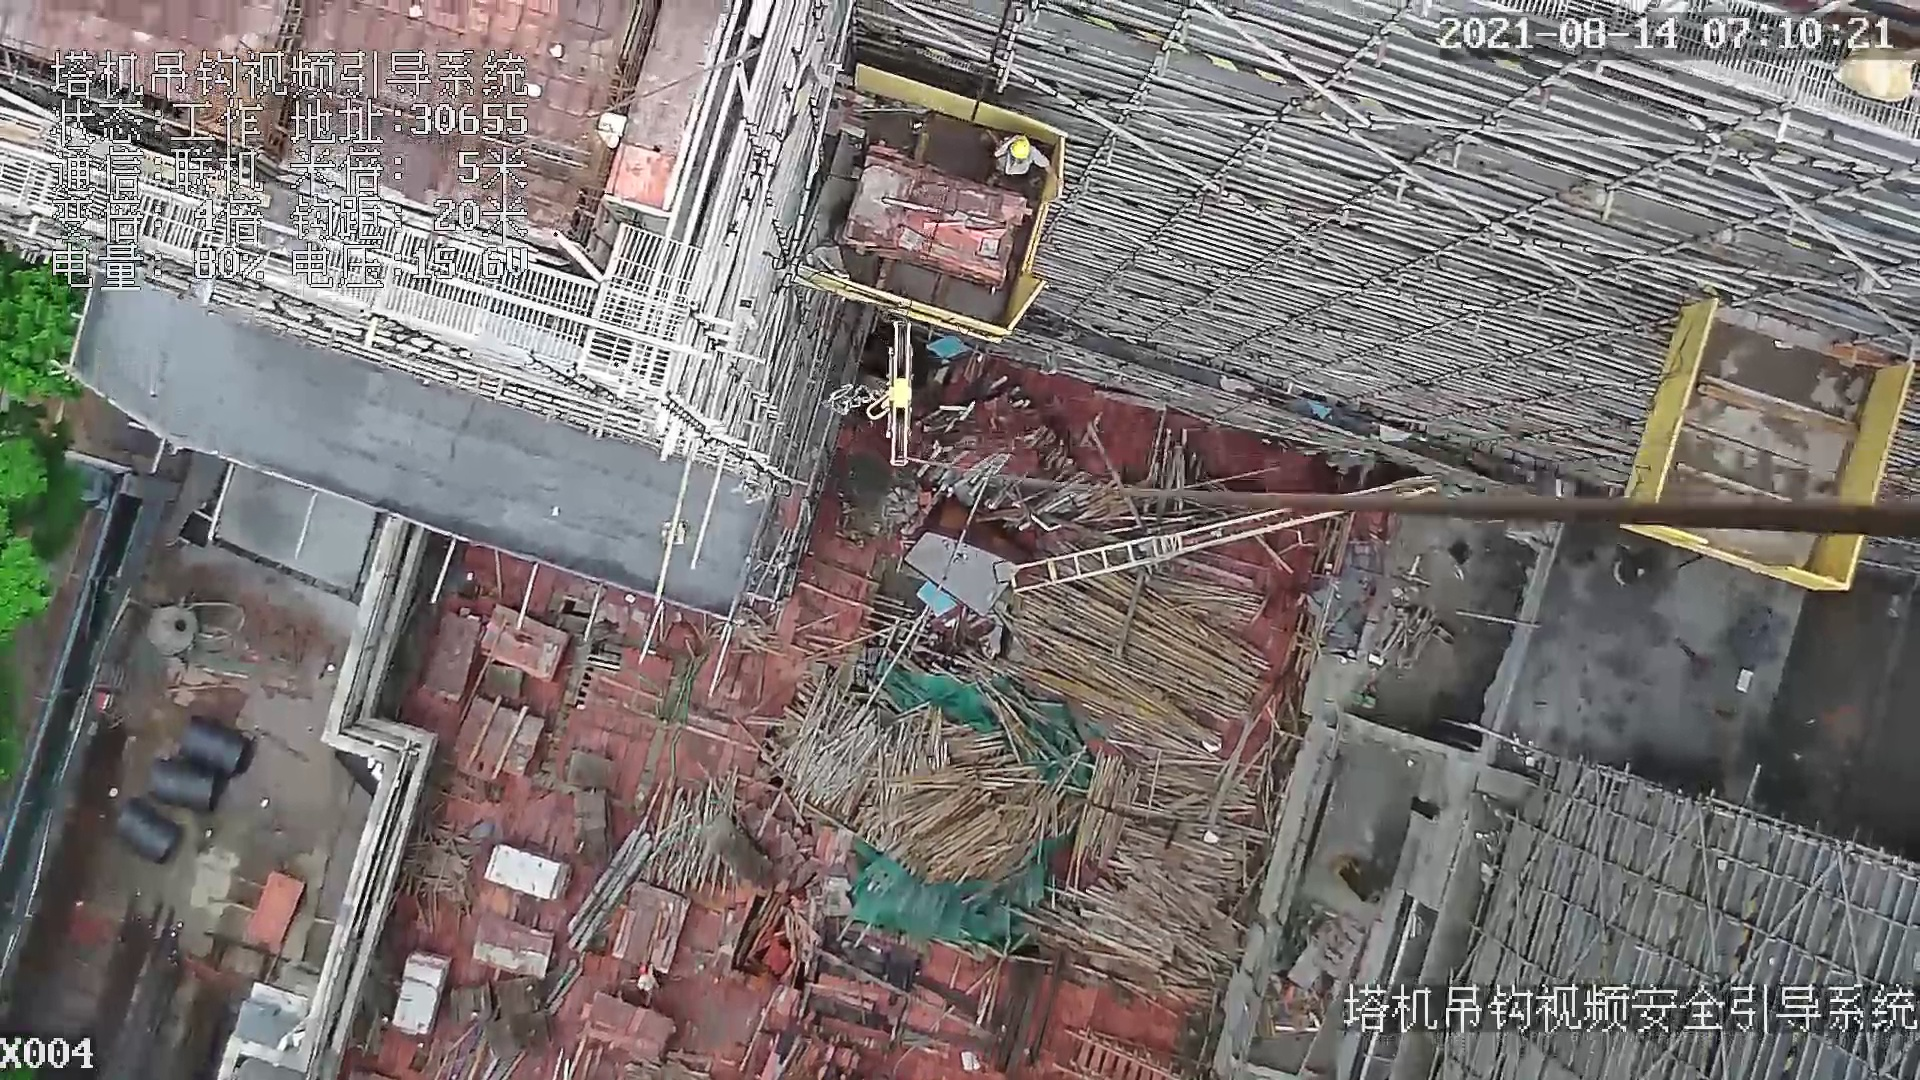helmet: (1009, 134, 1032, 163), (639, 964, 649, 975)
hook: (867, 319, 919, 474)
person: (990, 128, 1060, 186), (636, 962, 662, 1004)
